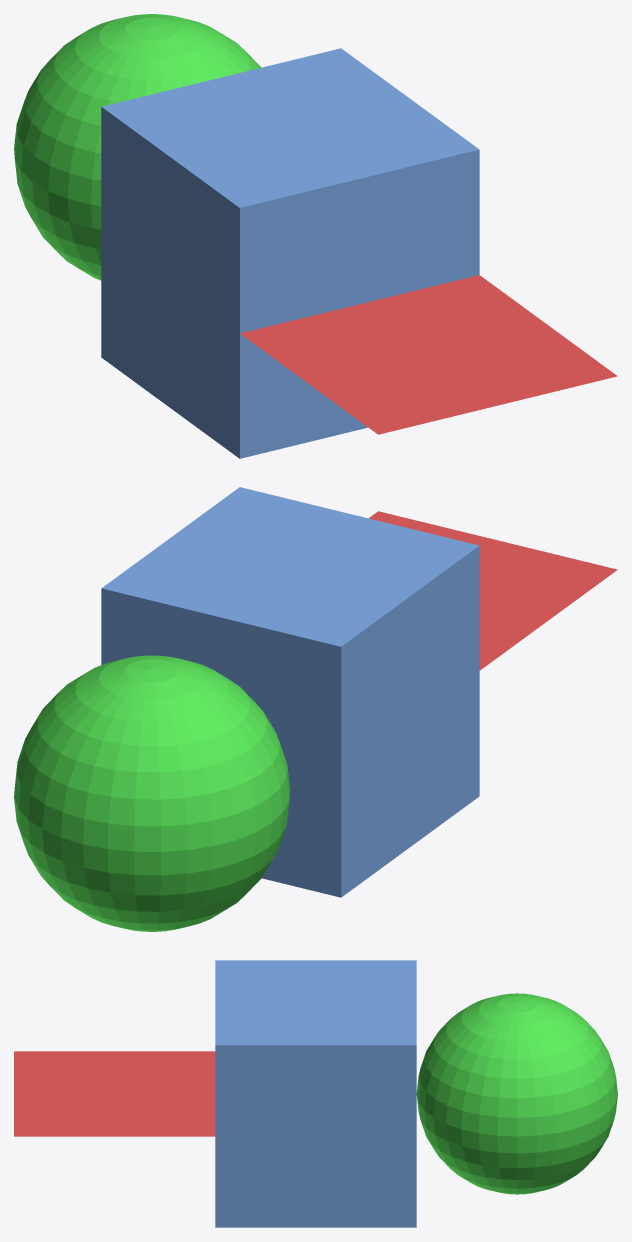
The model's file is interactable_objects.glb.
3 views of the same model, one above another, from view 1: azimuth 30°, elevation 25°; view 2: azimuth 150°, elevation 25°; view 3: azimuth 270°, elevation 25° (orthographic). The views are drawn at different scales.
Parts seen in each view (by area): view 1: Cube, Door, Sphere; view 2: Cube, Sphere, Door; view 3: Cube, Sphere, Door.
Part boxes in pixels (x1,y1,x2,y2): Cube: (101, 48, 479, 458); Door: (240, 275, 617, 434); Sphere: (14, 14, 261, 280); Cube: (101, 487, 479, 897); Sphere: (14, 655, 290, 931); Door: (368, 511, 617, 670); Cube: (215, 960, 416, 1227); Sphere: (416, 993, 617, 1194); Door: (14, 1051, 215, 1136).
Bounding box in the file's own units: 2 × 2 × 6.
